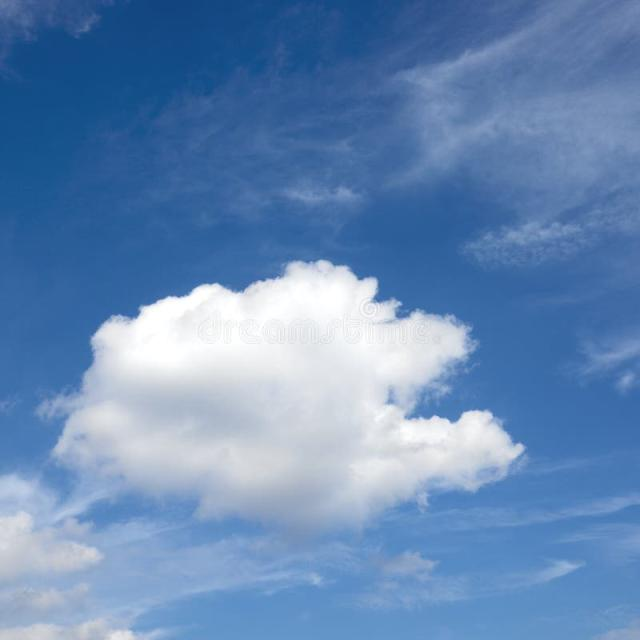cumulus: (56, 255, 534, 524)
